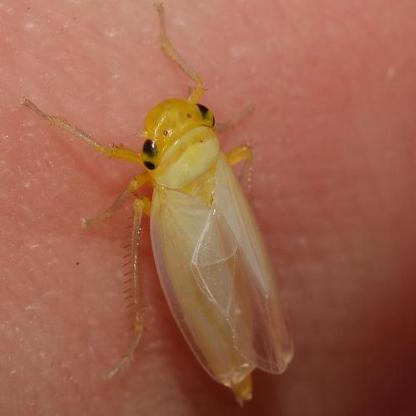Green-Leafhopper: (29, 10, 295, 406)
